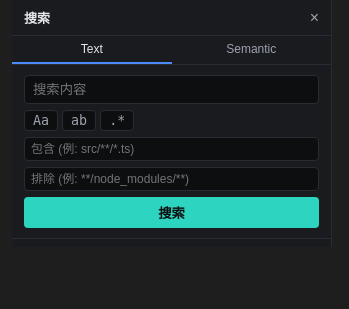
Scenario: SearchPanel › renders the service-backed result tree instead of maintaining a raw-match projection
Type "needle" into the field with class "search-input" showing "搜索内容" at x=172, y=90, box 24,75 -> 319,104
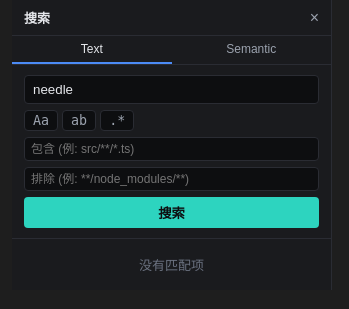
Submit the form, box 12,65 -> 331,239
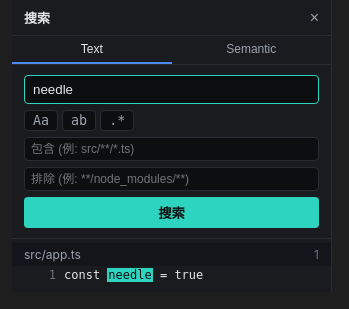
Expected: the text "src/app.ts" is shown, 24,247 -> 81,262
Expected: the text "const" is shown, 64,268 -> 107,282
Expected: the text "needle" is shown, 107,268 -> 153,282
